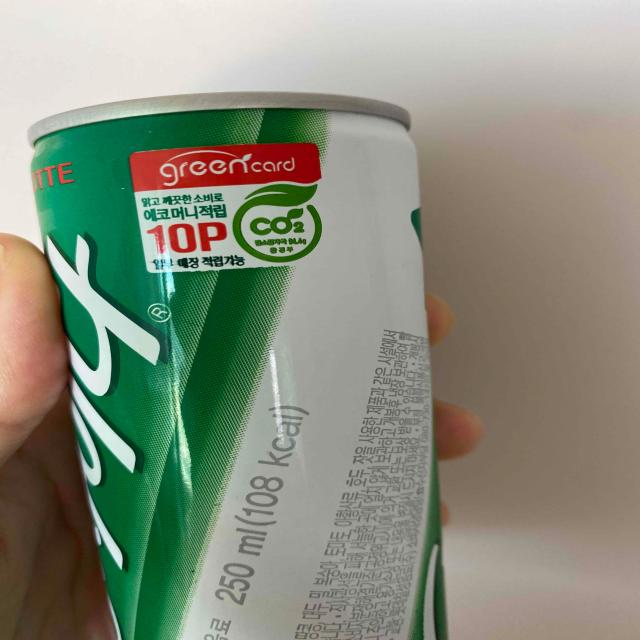can: (34, 94, 436, 636)
